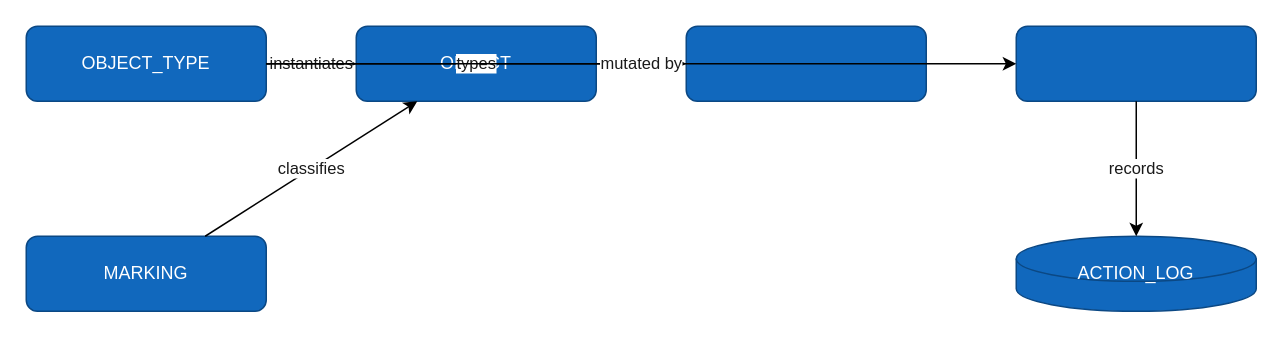
Image size: 1283x338. Some labels were removed from this diagram. The box of each missing label's shape, as (x1, y1, x2, y2) in pixels:
ACTION_TYPE: (1015, 25, 1256, 101)
LINK_TYPE: (685, 25, 926, 101)
